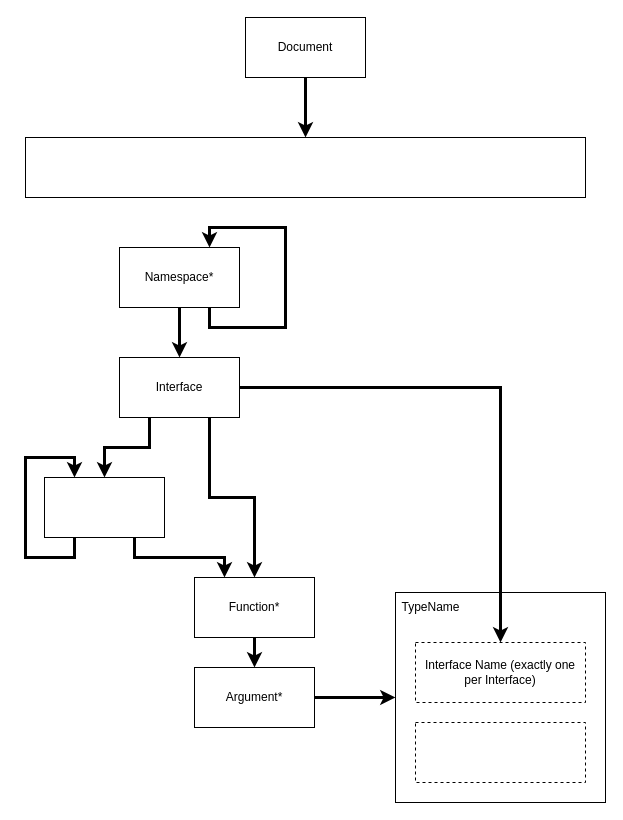
The diagram is 623 pixels wide and 820 high, and some of its shapes have lost their labels. The centre of each missing label's shape, as x and y in pixels:
"Primitive Type Name" goes at point 500,752.
"Property*" goes at point 104,507.
"Value Namespace|Interface|Identifier|Property|Function|Argument|TypeName" goes at point 305,167.
